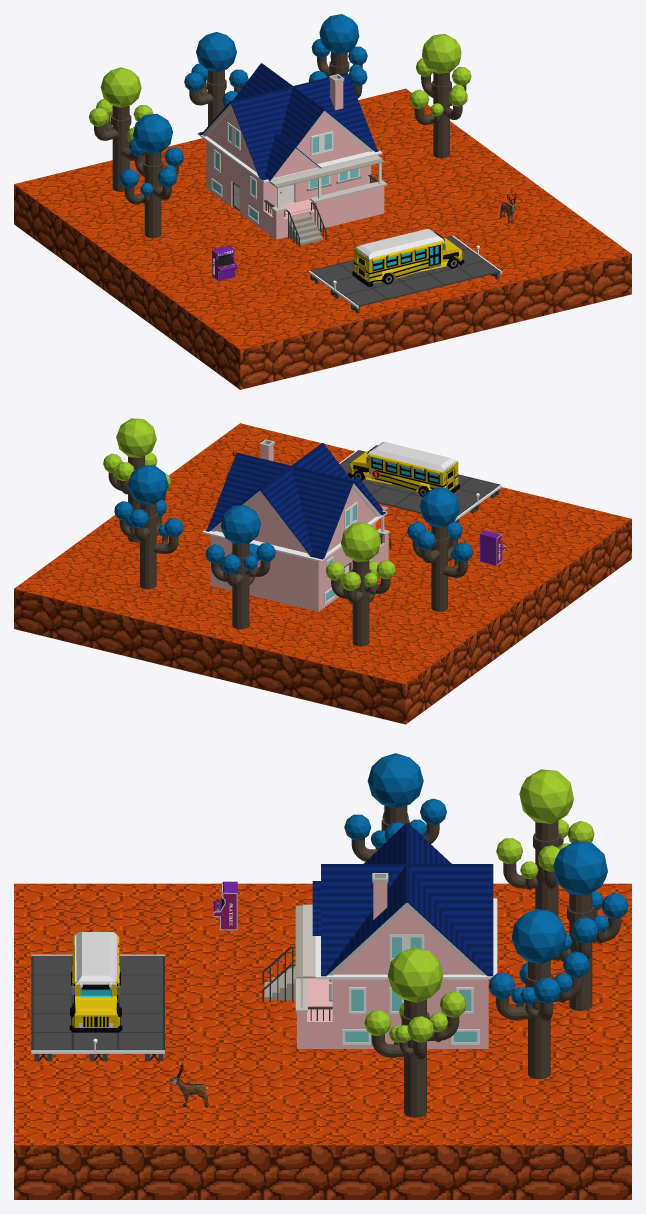
The picture shows the model from 3 angles, top to bottom: view 1: azimuth 30°, elevation 25°; view 2: azimuth 150°, elevation 25°; view 3: azimuth 270°, elevation 25°; orthographic projection. The views are drawn at different scales.
Parts seen in each view (by area): view 1: Cube.001, Cube.313, VEHICLES_SCHOOL_BUS, OBJRANDOM_ARCADE; view 2: Cube.001, Cube.313, VEHICLES_SCHOOL_BUS, OBJRANDOM_ARCADE; view 3: Cube.001, Cube.313, VEHICLES_SCHOOL_BUS, OBJRANDOM_ARCADE.
Part boxes in pixels (box(x1,y1,x2,y2)): Cube.001: box(14, 14, 631, 389); Cube.313: box(197, 63, 387, 246); VEHICLES_SCHOOL_BUS: box(352, 229, 464, 286); OBJRANDOM_ARCADE: box(211, 245, 237, 281); Cube.001: box(14, 418, 631, 724); Cube.313: box(202, 439, 391, 611); VEHICLES_SCHOOL_BUS: box(348, 442, 459, 496); OBJRANDOM_ARCADE: box(480, 530, 505, 565); Cube.001: box(14, 753, 631, 1199); Cube.313: box(262, 823, 497, 1048); VEHICLES_SCHOOL_BUS: box(69, 932, 122, 1032); OBJRANDOM_ARCADE: box(213, 881, 237, 930).
Bounding box in the file's own units: 4000 × 1680 × 4000.
44 materials, 4 textured.
